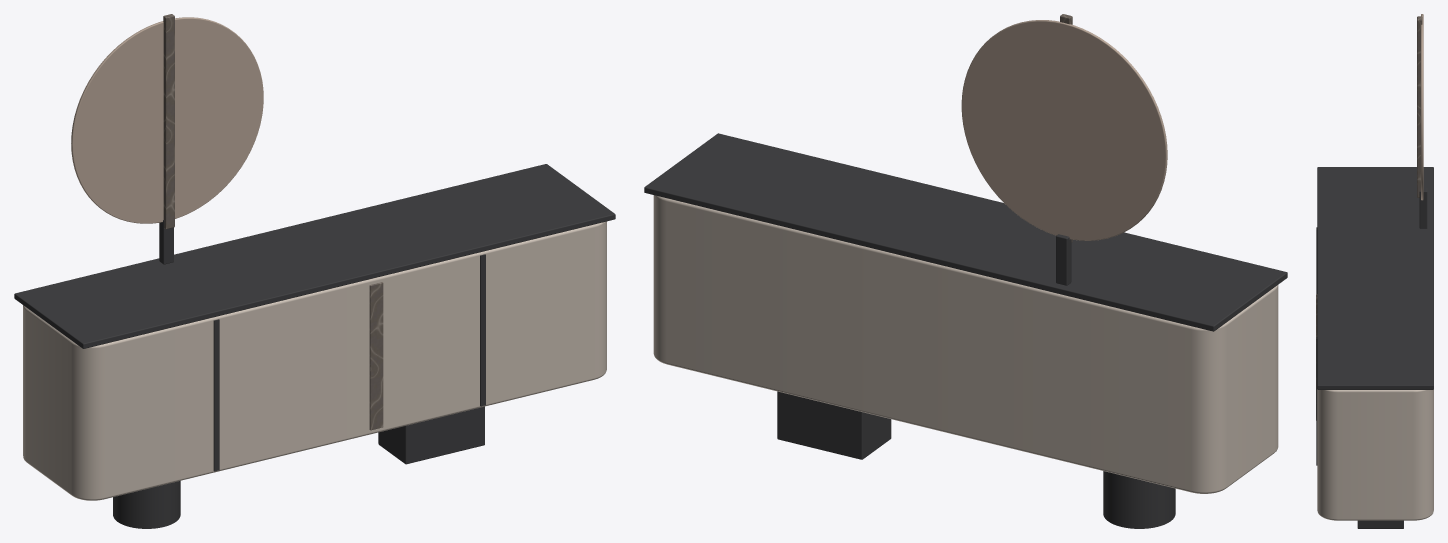
File: infinity-plus-dining-set--console.glb
3 renders of one model, left to right at view 1: azimuth 30°, elevation 25°; view 2: azimuth 150°, elevation 25°; view 3: azimuth 270°, elevation 25°, orthographic. The views are drawn at different scales.
Visible parts, largest first — view 1: body, top, mglass, footR, mstrip, footL, inlay, stripe-0.5, stripe0.5; view 2: body, top, mglass, footR, footL, mstand; view 3: top, body, mstrip, mglass, footR, mstand, stripe0.5, inlay.
Part boxes in pixels (bbox=[...]): body: bbox=[23, 221, 606, 500]; top: bbox=[14, 164, 615, 348]; mglass: bbox=[71, 17, 263, 223]; footR: bbox=[378, 406, 484, 464]; mstrip: bbox=[163, 14, 174, 229]; footL: bbox=[113, 481, 180, 528]; inlay: bbox=[369, 282, 383, 430]; stripe-0.5: bbox=[213, 319, 219, 471]; stripe0.5: bbox=[480, 254, 485, 406]; body: bbox=[653, 195, 1278, 493]; top: bbox=[644, 133, 1287, 331]; mglass: bbox=[961, 20, 1167, 240]; footR: bbox=[777, 391, 891, 459]; footL: bbox=[1103, 471, 1175, 528]; mstand: bbox=[1056, 234, 1071, 285]; top: bbox=[1317, 167, 1433, 389]; body: bbox=[1317, 389, 1433, 520]; mstrip: bbox=[1417, 16, 1422, 197]; mglass: bbox=[1421, 14, 1423, 200]; footR: bbox=[1357, 520, 1403, 528]; mstand: bbox=[1419, 187, 1427, 228]; stripe0.5: bbox=[1316, 336, 1317, 465]; inlay: bbox=[1316, 294, 1317, 420].
Size of the model in its own units: 2 by 1.69 by 0.455.
Materials: 4 (1 with a texture image).
